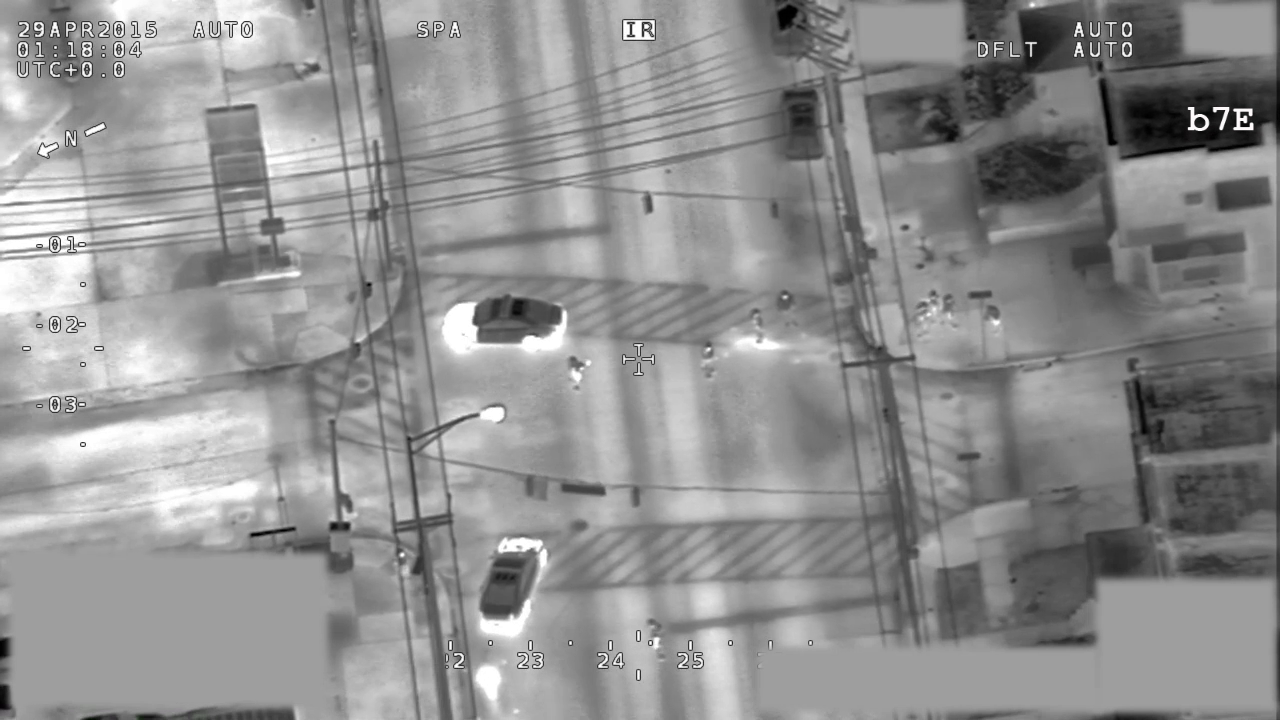vehicle: (435, 290, 572, 358), (469, 535, 551, 638), (774, 81, 831, 168)
